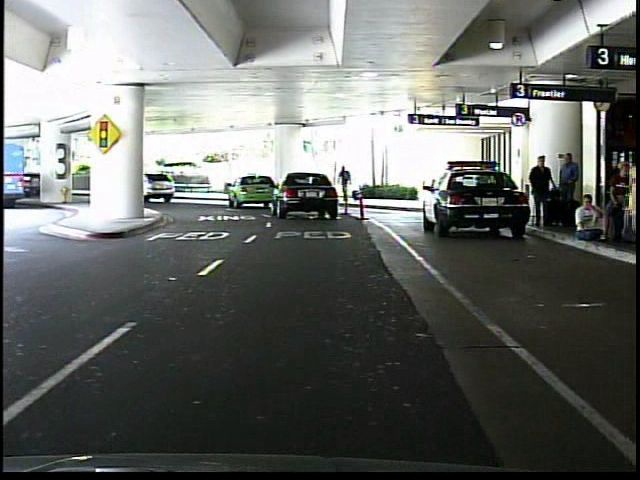person: (553, 148, 583, 230), (527, 153, 556, 230), (339, 162, 355, 205)
